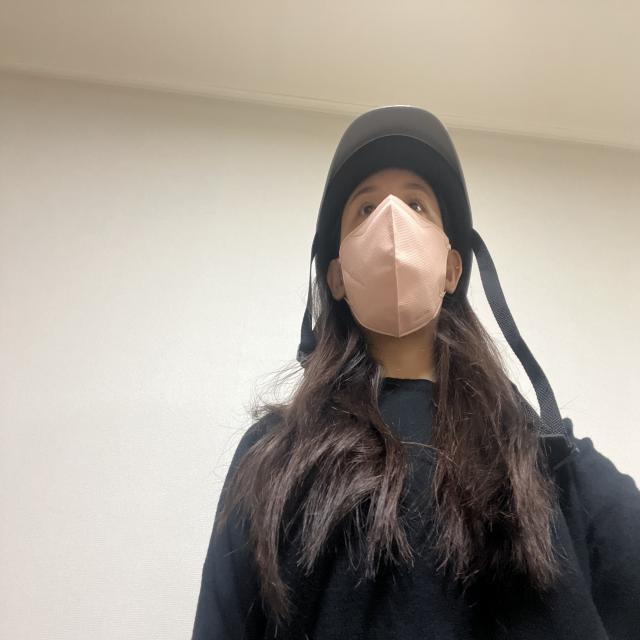Helmet: (308, 104, 476, 342)
